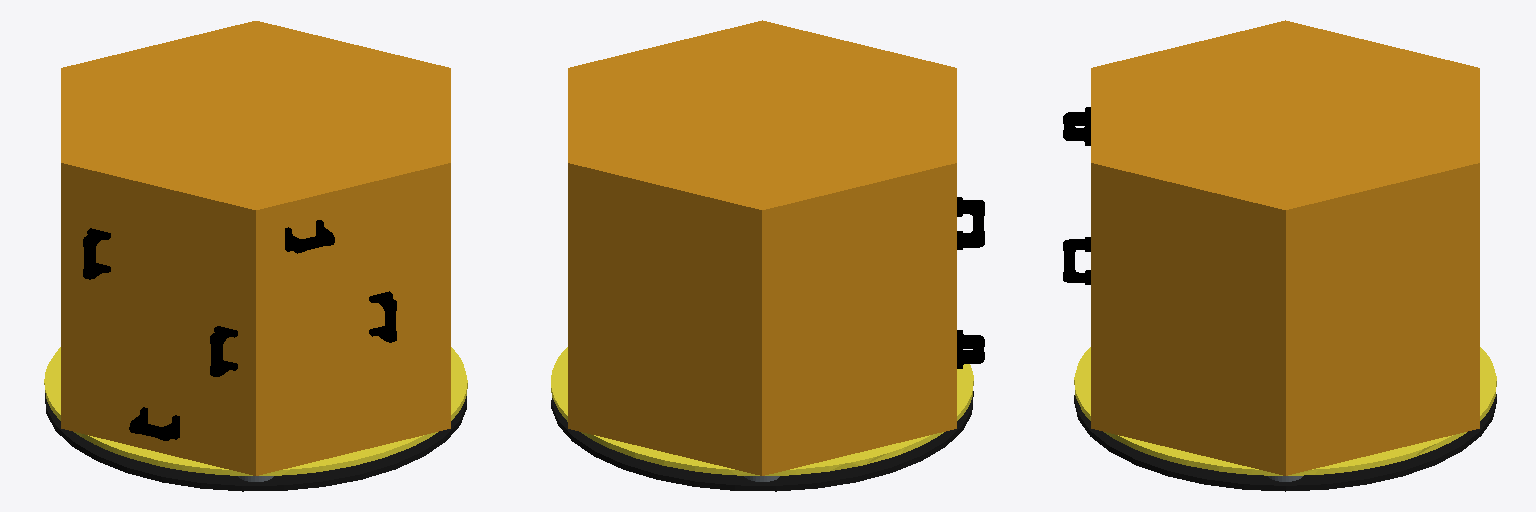
The robot description file, URDF, robot "target_satellite":
<!-- =================================================================================== -->
<!-- |    This document was autogenerated by xacro from /home/ubuntu/ws/install/rss/share/rss/urdf/satellite_simulation.urdf.xacro | -->
<!-- |    EDITING THIS FILE BY HAND IS NOT RECOMMENDED                                 | -->
<!-- =================================================================================== -->
<robot name="target_satellite">
  <link name="base_link"/>
  <link name="rotary_optical_plate"> <!-- TARGET SATELLITE -->
    <visual>
      <origin rpy="0 0 0" xyz="0 0 -0.0127"/>
      <geometry>
        <cylinder length="0.0254" radius="0.8795"/>
      </geometry>
      <material name="Black(ish)">
        <color rgba="0.1216 0.1216 0.1216 1.0"/>
      </material>
    </visual>
    <collision>
      <origin rpy="0 0 0" xyz="0 0 -0.0127"/>
      <geometry>
        <cylinder length="0.0254" radius="0.8795"/>
      </geometry>
    </collision>
  </link>
  <joint name="rotary_optical_plate_joint" type="floating">
    <parent link="base_link"/>
    <child link="rotary_optical_plate"/>
  </joint>
  <link name="rotary_FTS_combined"/>
  <joint name="OpticalToFTScombined_joint" type="fixed">
    <parent link="rotary_optical_plate"/>
    <child link="rotary_FTS_combined"/>
    <origin rpy="0 0 0" xyz="-0.25 0.25 .0712"/>
  </joint>
  <link name="rotary_FTS_Plate">
    <visual>
      <origin rpy="0 0 0" xyz="0 0 0"/>
      <geometry>
        <mesh filename="package://rss_meshes/meshes/FT_Plate.stl"/>
      </geometry>
      <material name="gold"/>
    </visual>
    <collision>
      <origin rpy="0 0 0" xyz="0 0 0"/>
      <geometry>
        <mesh filename="package://rss_meshes/meshes/FT_Plate_collision.stl"/>
      </geometry>
    </collision>
  </link>
  <joint name="OpticalToFTSPlate_joint" type="fixed">
    <parent link="rotary_optical_plate"/>
    <child link="rotary_FTS_Plate"/>
    <origin rpy="0 0 0" xyz="0 0 .0712"/>
  </joint>
  <link name="ati_charlie_frame">
    <visual>
      <origin rpy="0 0 0" xyz="0 0 -0.03465"/>
      <geometry>
        <cylinder length="0.0693" radius="0.07825"/>
      </geometry>
      <material name="Gray(ish)">
        <color rgba="0.427 0.455 0.478 1.0"/>
      </material>
    </visual>
    <collision>
      <origin rpy="0 0 0" xyz="0 0 -0.03465"/>
      <geometry>
        <cylinder length="0.0693" radius="0.07825"/>
      </geometry>
    </collision>
  </link>
  <joint name="ati_charlie_joint" type="fixed">
    <origin rpy="0 0 0" xyz="-0.381 0.6604 0.0693"/>
    <parent link="rotary_optical_plate"/>
    <child link="ati_charlie_frame"/>
  </joint>
  <ros2_control name="ati_charlie" type="sensor">
    <hardware>
      <plugin>netft_hardware_interface/NetFTHardwareInterface</plugin>
      <param name="address">192.168.1.108</param>
    </hardware>
    <sensor name="ati_charlie">
      <state_interface name="force.x"/>
      <state_interface name="force.y"/>
      <state_interface name="force.z"/>
      <state_interface name="torque.x"/>
      <state_interface name="torque.y"/>
      <state_interface name="torque.z"/>
    </sensor>
  </ros2_control>
  <link name="ati_delta_frame">
    <visual>
      <origin rpy="0 0 0" xyz="0 0 -0.03465"/>
      <geometry>
        <cylinder length="0.0693" radius="0.07825"/>
      </geometry>
      <material name="Gray(ish)">
        <color rgba="0.427 0.455 0.478 1.0"/>
      </material>
    </visual>
    <collision>
      <origin rpy="0 0 0" xyz="0 0 -0.03465"/>
      <geometry>
        <cylinder length="0.0693" radius="0.07825"/>
      </geometry>
    </collision>
  </link>
  <joint name="ati_delta_joint" type="fixed">
    <origin rpy="0 0 0" xyz="-0.381 -0.6604 0.0693"/>
    <parent link="rotary_optical_plate"/>
    <child link="ati_delta_frame"/>
  </joint>
  <ros2_control name="ati_delta" type="sensor">
    <hardware>
      <plugin>netft_hardware_interface/NetFTHardwareInterface</plugin>
      <param name="address">192.168.1.109</param>
    </hardware>
    <sensor name="ati_delta">
      <state_interface name="force.x"/>
      <state_interface name="force.y"/>
      <state_interface name="force.z"/>
      <state_interface name="torque.x"/>
      <state_interface name="torque.y"/>
      <state_interface name="torque.z"/>
    </sensor>
  </ros2_control>
  <link name="ati_echo_frame">
    <visual>
      <origin rpy="0 0 0" xyz="0 0 -0.03465"/>
      <geometry>
        <cylinder length="0.0693" radius="0.07825"/>
      </geometry>
      <material name="Gray(ish)">
        <color rgba="0.427 0.455 0.478 1.0"/>
      </material>
    </visual>
    <collision>
      <origin rpy="0 0 0" xyz="0 0 -0.03465"/>
      <geometry>
        <cylinder length="0.0693" radius="0.07825"/>
      </geometry>
    </collision>
  </link>
  <joint name="ati_echo_joint" type="fixed">
    <origin rpy="0 0 0" xyz="0.762 0 0.0693"/>
    <parent link="rotary_optical_plate"/>
    <child link="ati_echo_frame"/>
  </joint>
  <ros2_control name="ati_echo" type="sensor">
    <hardware>
      <plugin>netft_hardware_interface/NetFTHardwareInterface</plugin>
      <param name="address">192.168.1.110</param>
    </hardware>
    <sensor name="ati_echo">
      <state_interface name="force.x"/>
      <state_interface name="force.y"/>
      <state_interface name="force.z"/>
      <state_interface name="torque.x"/>
      <state_interface name="torque.y"/>
      <state_interface name="torque.z"/>
    </sensor>
  </ros2_control>
  <link name="satellite_mockup">
    <visual>
      <origin rpy="0 0 0.523599" xyz="0 0 0"/>
      <geometry>
        <mesh filename="package://rss_meshes/meshes/simple_satellite.stl"/>
      </geometry>
      <material name="gold_transparent">
        <color rgba="0.839 0.592 0.149 0.4"/>
      </material>
    </visual>
    <collision>
      <origin rpy="0 0 0.523599" xyz="0 0 0"/>
      <geometry>
        <mesh filename="package://rss_meshes/meshes/simple_satellite.stl"/>
      </geometry>
    </collision>
    <!-- JUNETTE: You can change these inertias as needed, this is the simulated target vehicle intertia -->
    <inertial>
      <mass value="5000.0" />
      <inertia ixx="1607.254" iyy="1607.254" izz="1975.802" ixy="0.0" ixz="0.0" iyz="0.0" />
    </inertial>
  </link>
  <joint name="FTSPlatesToSatellite_joint" type="fixed">
    <parent link="rotary_FTS_Plate"/>
    <child link="satellite_mockup"/>
    <origin rpy="0 0 0.523599" xyz="0 0 0.5846"/>
    <!-- update for rotary home offset-->
  </joint>
  <!-- These frames are on the face of the satellite, at the bottom-right most hole of the grid -->
  <link name="panel_1"/>
  <link name="panel_2"/>
  <link name="panel_3"/>
  <link name="panel_4"/>
  <link name="panel_5"/>
  <link name="panel_6"/>
  <joint name="satellite_panel_1_joint" type="fixed">
    <parent link="satellite_mockup"/>
    <child link="panel_1"/>
    <origin rpy="0 0 0" xyz="-0.80905 -0.3684 -0.5592"/>
  </joint>
  <joint name="satellite_panel_2_joint" type="fixed">
    <parent link="satellite_mockup"/>
    <child link="panel_2"/>
    <origin rpy="0 0 1.0471975511965976" xyz="-0.08548 -0.88485 -0.5592"/>
  </joint>
  <joint name="satellite_panel_3_joint" type="fixed">
    <parent link="satellite_mockup"/>
    <child link="panel_3"/>
    <origin rpy="0 0 2.0943951023931953" xyz="0.72357 -0.51645 -0.5592"/>
  </joint>
  <joint name="satellite_panel_4_joint" type="fixed">
    <parent link="satellite_mockup"/>
    <child link="panel_4"/>
    <origin rpy="0 0 3.141592653589793" xyz="0.80905 0.3684 -0.5592"/>
  </joint>
  <joint name="satellite_panel_5_joint" type="fixed">
    <parent link="satellite_mockup"/>
    <child link="panel_5"/>
    <origin rpy="0 0 4.1887902047863905" xyz="0.08548 0.88485 -0.5592"/>
  </joint>
  <joint name="satellite_panel_6_joint" type="fixed">
    <parent link="satellite_mockup"/>
    <child link="panel_6"/>
    <origin rpy="0 0 5.235987755982989" xyz="-0.72357 0.51645 -0.5592"/>
  </joint>
  <link name="handle_1_mount">
    <visual>
      <origin rpy="0 0 0" xyz="0 0 0"/>
      <geometry>
        <mesh filename="package://rss_meshes/meshes/Hex_Grip_Collision.stl"/>
      </geometry>
      <material name="black_transparent">
        <color rgba="0 0 0 0.5"/>
      </material>
    </visual>
  </link>
  <joint name="handle_1_mount_joint" type="fixed">
    <parent link="panel_1"/>
    <child link="handle_1_mount"/>
    <origin rpy="-1.5707963267948966 0 0" xyz="0.0 0.2794 0.15239999999999998"/>
  </joint>
  <link name="handle_1"/>
  <joint name="handle_1_joint" type="fixed">
    <parent link="handle_1_mount"/>
    <child link="handle_1"/>
    <origin rpy="0 0 0" xyz="-0.0889 0.0381 0.0762"/>
  </joint>
  <link name="handle_2_mount">
    <visual>
      <origin rpy="0 0 0" xyz="0 0 0"/>
      <geometry>
        <mesh filename="package://rss_meshes/meshes/Hex_Grip_Collision.stl"/>
      </geometry>
      <material name="black_transparent">
        <color rgba="0 0 0 0.5"/>
      </material>
    </visual>
  </link>
  <joint name="handle_2_mount_joint" type="fixed">
    <parent link="panel_2"/>
    <child link="handle_2_mount"/>
    <origin rpy="0 0 0" xyz="0.0 0.2032 0.508"/>
  </joint>
  <link name="handle_2"/>
  <joint name="handle_2_joint" type="fixed">
    <parent link="handle_2_mount"/>
    <child link="handle_2"/>
    <origin rpy="0 0 0" xyz="-0.0889 0.0381 0.0762"/>
  </joint>
  <link name="handle_3_mount">
    <visual>
      <origin rpy="0 0 0" xyz="0 0 0"/>
      <geometry>
        <mesh filename="package://rss_meshes/meshes/Hex_Grip_Collision.stl"/>
      </geometry>
      <material name="black_transparent">
        <color rgba="0 0 0 0.5"/>
      </material>
    </visual>
  </link>
  <joint name="handle_3_mount_joint" type="fixed">
    <parent link="panel_1"/>
    <child link="handle_3_mount"/>
    <origin rpy="3.141592653589793 0 0" xyz="0.0 0.07619999999999999 0.6095999999999999"/>
  </joint>
  <link name="handle_3"/>
  <joint name="handle_3_joint" type="fixed">
    <parent link="handle_3_mount"/>
    <child link="handle_3"/>
    <origin rpy="0 0 0" xyz="-0.0889 0.0381 0.0762"/>
  </joint>
  <link name="handle_4_mount">
    <visual>
      <origin rpy="0 0 0" xyz="0 0 0"/>
      <geometry>
        <mesh filename="package://rss_meshes/meshes/Hex_Grip_Collision.stl"/>
      </geometry>
      <material name="black_transparent">
        <color rgba="0 0 0 0.5"/>
      </material>
    </visual>
  </link>
  <joint name="handle_4_mount_joint" type="fixed">
    <parent link="panel_2"/>
    <child link="handle_4_mount"/>
    <origin rpy="-1.5707963267948966 0 0" xyz="0.0 0.5334 1.0668"/>
  </joint>
  <link name="handle_4"/>
  <joint name="handle_4_joint" type="fixed">
    <parent link="handle_4_mount"/>
    <child link="handle_4"/>
    <origin rpy="0 0 0" xyz="-0.0889 0.0381 0.0762"/>
  </joint>
  <link name="handle_5_mount">
    <visual>
      <origin rpy="0 0 0" xyz="0 0 0"/>
      <geometry>
        <mesh filename="package://rss_meshes/meshes/Hex_Grip_Collision.stl"/>
      </geometry>
      <material name="black_transparent">
        <color rgba="0 0 0 0.5"/>
      </material>
    </visual>
  </link>
  <joint name="handle_5_mount_joint" type="fixed">
    <parent link="panel_1"/>
    <child link="handle_5_mount"/>
    <origin rpy="0 0 0" xyz="0.0 0.6095999999999999 0.762"/>
  </joint>
  <link name="handle_5"/>
  <joint name="handle_5_joint" type="fixed">
    <parent link="handle_5_mount"/>
    <child link="handle_5"/>
    <origin rpy="0 0 0" xyz="-0.0889 0.0381 0.0762"/>
  </joint>
  <link name="rotary_coordinate_frame">
    <visual>
      <material name="White">
        <color rgba="1 1 1 0.1"/>
      </material>
      <origin rpy="0 0 0" xyz="0 0 0.07"/>
      <geometry>
        <cylinder length="0.14" radius="0.01"/>
      </geometry>
    </visual>
    <visual>
      <origin rpy="-1.5708 0 0" xyz="0 0.07 0"/>
      <geometry>
        <cylinder length="0.14" radius="0.01"/>
      </geometry>
    </visual>
    <visual>
      <origin rpy="0 1.5708 0" xyz="0.07 0 0"/>
      <geometry>
        <cylinder length="0.14" radius="0.01"/>
      </geometry>
    </visual>
    <collision>
      <origin rpy="0 0 0" xyz="0 0 0.07"/>
      <geometry>
        <cylinder length="0.14" radius="0.01"/>
      </geometry>
    </collision>
    <collision>
      <origin rpy="-1.5708 0 0" xyz="0 0.07 0"/>
      <geometry>
        <cylinder length="0.14" radius="0.01"/>
      </geometry>
    </collision>
    <collision>
      <origin rpy="0 1.5708 0" xyz="0.07 0 0"/>
      <geometry>
        <cylinder length="0.14" radius="0.01"/>
      </geometry>
    </collision>
    <!-- Include the mount collision -->
    <visual>
      <origin rpy="0 0 0" xyz="0 0 0"/>
      <geometry>
        <mesh filename="package://rss_meshes/meshes/rotary_coordinate_frame.stl"/>
      </geometry>
    </visual>
    <collision>
      <origin rpy="0 0 0" xyz="0 0 0"/>
      <geometry>
        <mesh filename="package://rss_meshes/meshes/rotary_coordinate_frame.stl"/>
      </geometry>
    </collision>
  </link>
  <joint name="rotary_coordinate_frame_joint" type="fixed">
    <origin rpy="0 0 0.523599" xyz="0 0 0.6796"/>
    <!-- update for
      rotary home offset-->
    <parent link="rotary_optical_plate"/>
    <child link="rotary_coordinate_frame"/>
  </joint>
  <link name="rotary_simulation_frame">
    </link>
  <joint name="rotary_simulation_frame_joint" type="fixed">
    <origin rpy="0 0 0.523599" xyz="0 0 0.6796"/>
    <!-- update for
      rotary home offset-->
    <parent link="rotary_optical_plate"/>
    <child link="rotary_simulation_frame"/>
  </joint>
</robot>

--- Facts derived from the render (not from the file) ---
The picture shows the robot from 3 angles, left to right: view 1: azimuth 30°, elevation 25°; view 2: azimuth 150°, elevation 25°; view 3: azimuth 270°, elevation 25°; orthographic projection.
Robot: target_satellite — 26 links, 25 joints (24 fixed, 1 floating); root link base_link; default pose: all joints at 0.
Links seen in each view (by area): view 1: satellite_mockup, rotary_optical_plate, rotary_FTS_Plate, handle_1_mount, handle_3_mount, handle_5_mount, handle_4_mount, handle_2_mount; view 2: satellite_mockup, rotary_optical_plate, rotary_FTS_Plate, handle_5_mount, handle_1_mount; view 3: satellite_mockup, rotary_optical_plate, rotary_FTS_Plate, handle_2_mount, handle_4_mount.
Link boxes in pixels (left/top/right/bottom): satellite_mockup: left=61, top=21, right=450, bottom=475; rotary_optical_plate: left=45, top=393, right=466, bottom=491; rotary_FTS_Plate: left=44, top=347, right=467, bottom=475; handle_1_mount: left=129, top=407, right=179, bottom=440; handle_3_mount: left=210, top=326, right=237, bottom=376; handle_5_mount: left=83, top=228, right=110, bottom=279; handle_4_mount: left=285, top=220, right=334, bottom=253; handle_2_mount: left=369, top=291, right=396, bottom=342; satellite_mockup: left=568, top=20, right=956, bottom=475; rotary_optical_plate: left=551, top=391, right=973, bottom=491; rotary_FTS_Plate: left=551, top=347, right=973, bottom=475; handle_5_mount: left=957, top=197, right=984, bottom=244; handle_1_mount: left=957, top=330, right=984, bottom=368; satellite_mockup: left=1091, top=20, right=1479, bottom=475; rotary_optical_plate: left=1074, top=394, right=1496, bottom=491; rotary_FTS_Plate: left=1074, top=347, right=1496, bottom=475; handle_2_mount: left=1063, top=237, right=1090, bottom=284; handle_4_mount: left=1063, top=107, right=1090, bottom=145.
Size in the robot's own frame: 1.88 by 1.81 by 1.32 metres.
8 mesh visuals loaded from 4 distinct referenced files (4 binary STL).
